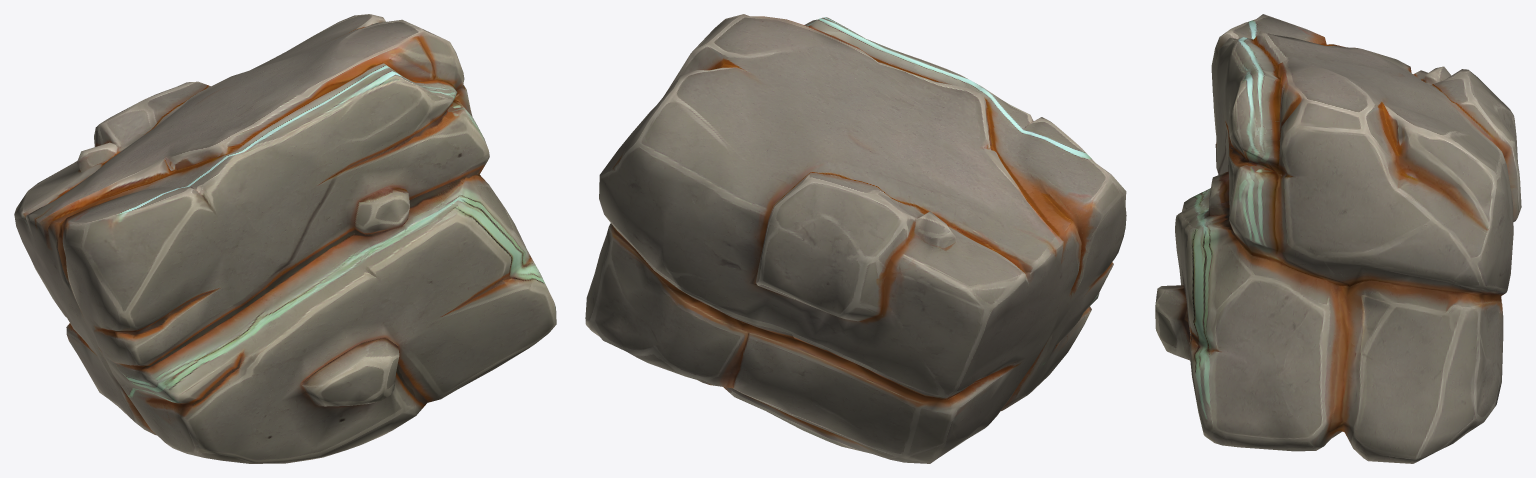
The picture shows the model from 3 angles, left to right: view 1: azimuth 30°, elevation 25°; view 2: azimuth 150°, elevation 25°; view 3: azimuth 270°, elevation 25°; orthographic projection. The views are drawn at different scales.
Size of the model in its own units: 2 by 1.48 by 1.29.
Materials: 1 (1 with a texture image).
